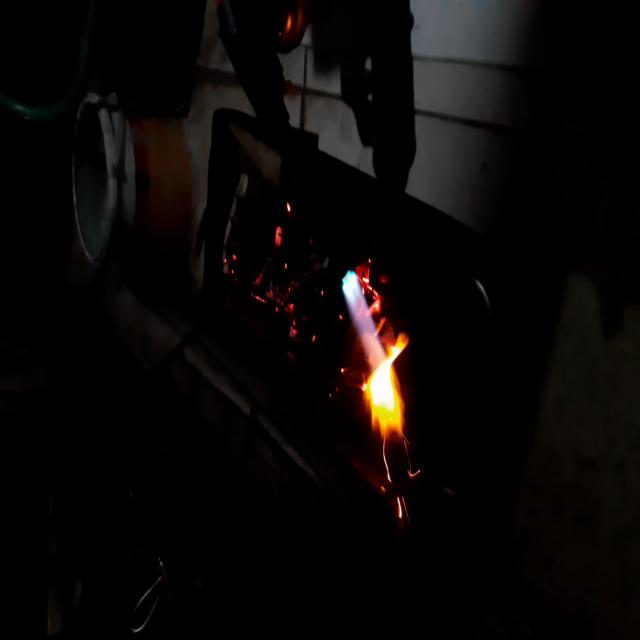Fire: (330, 266, 410, 454), (228, 210, 321, 366)
